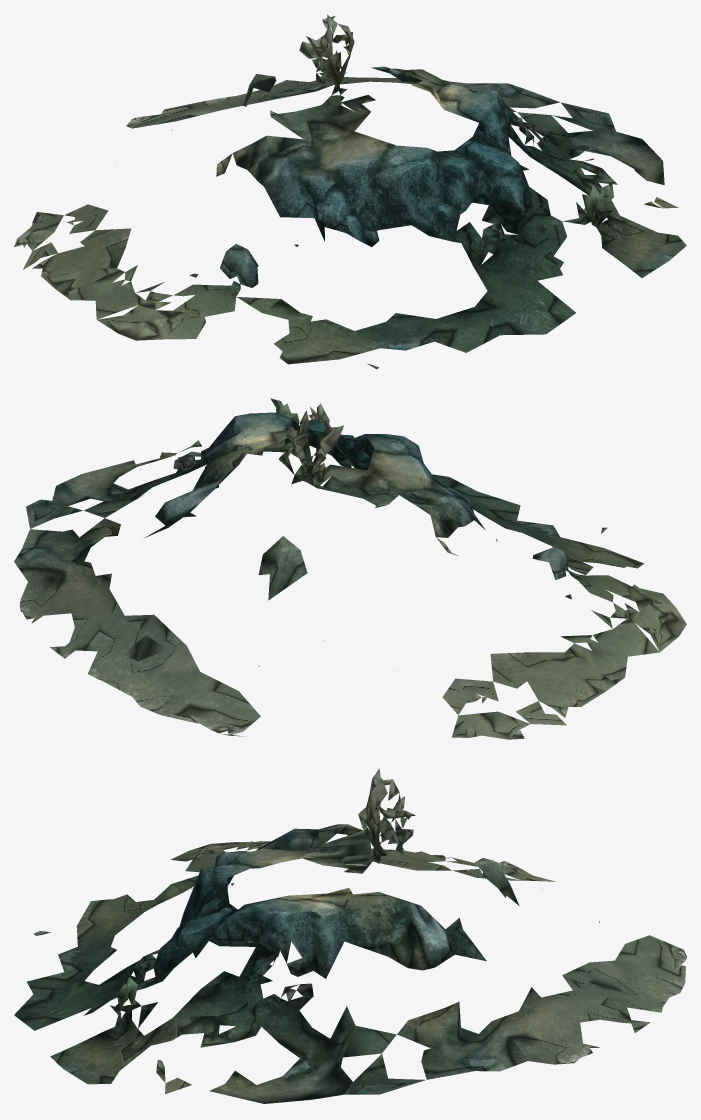
The model's file is hill-2.glb.
The picture shows the model from 3 angles, top to bottom: view 1: azimuth 30°, elevation 25°; view 2: azimuth 150°, elevation 25°; view 3: azimuth 270°, elevation 25°; orthographic projection. The views are drawn at different scales.
Parts seen in each view (by area): view 1: geometry_0; view 2: geometry_0; view 3: geometry_0.
Boxes of the visible parts, left/top/right/bottom form: geometry_0: left=14, top=14, right=686, bottom=369; geometry_0: left=14, top=398, right=686, bottom=739; geometry_0: left=14, top=768, right=686, bottom=1103.
Size of the model in its own units: 0.9443 by 0.3444 by 0.9086.
Materials: 1 (1 with a texture image).
